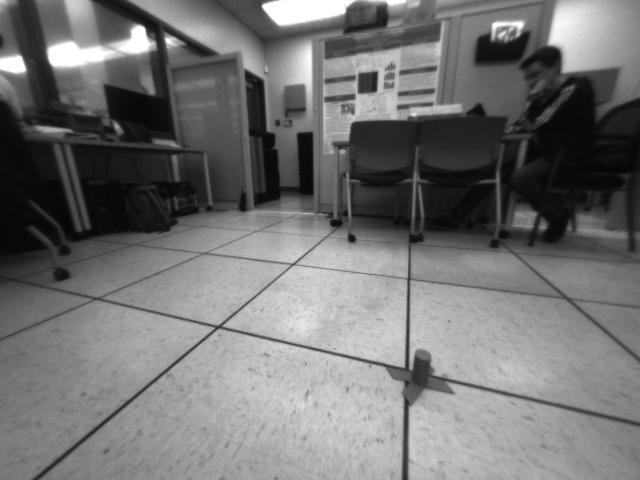X: (385, 347, 456, 404)
